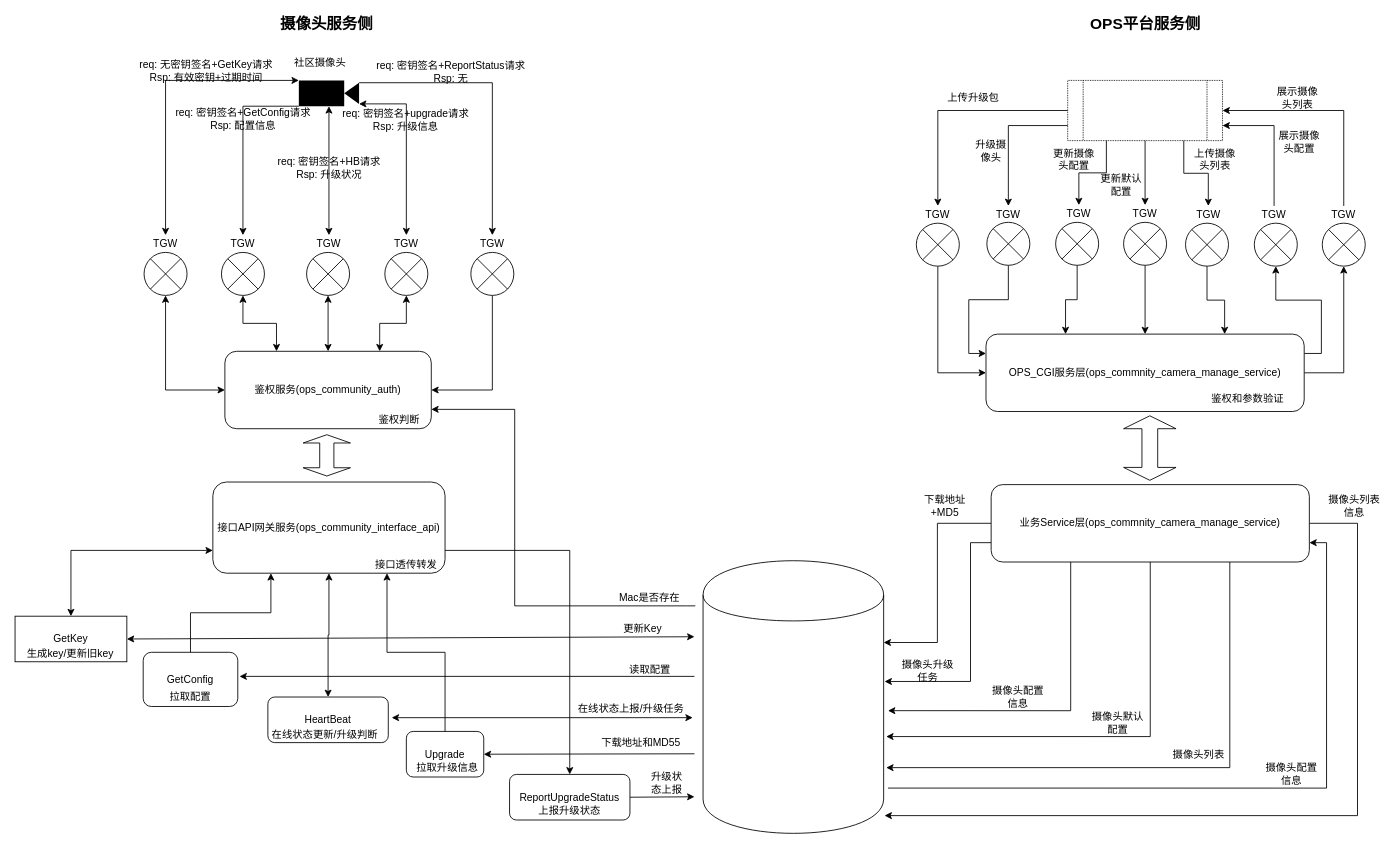
The diagram is 1396 pixels wide and 848 high, and some of its shapes have lost their labels. Each missing label, with the centre of its shape:
OPS社区管理平台: pixel 1144 110
社区摄像头 DB: pixel 793 696
